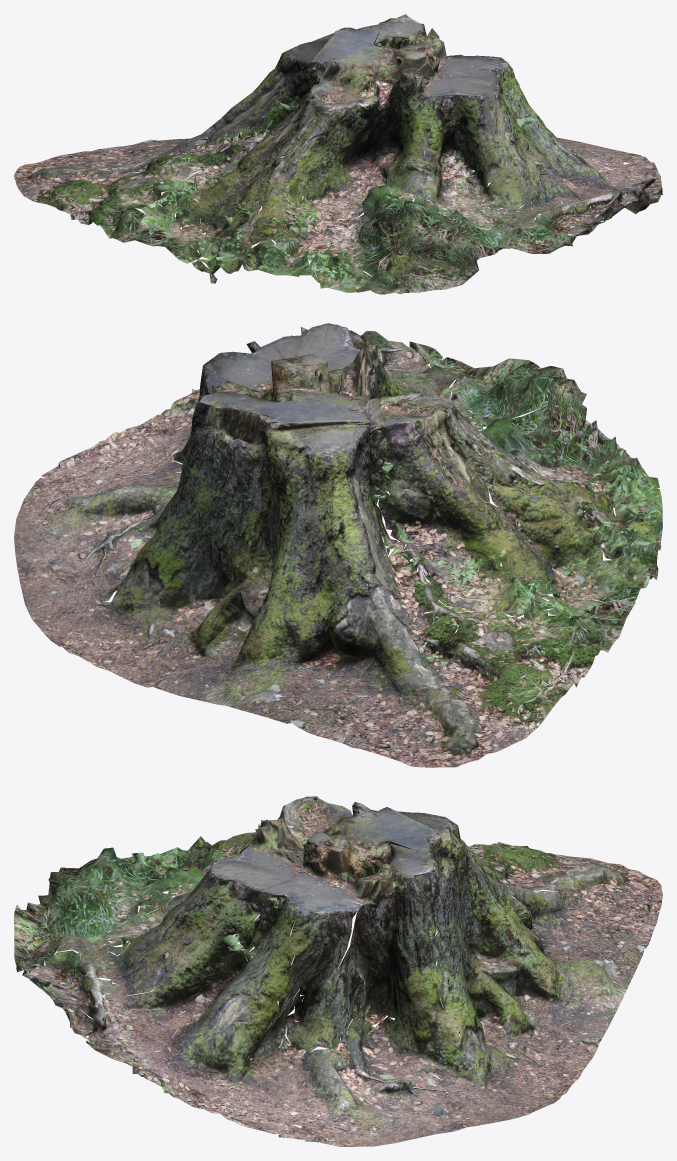
File: stump_boubin.glb
3 renders of one model, top to bottom at view 1: azimuth 30°, elevation 25°; view 2: azimuth 150°, elevation 25°; view 3: azimuth 270°, elevation 25°, orthographic. The views are drawn at different scales.
Parts seen in each view (by area): view 1: boubin_stump_boubin_stump_0; view 2: boubin_stump_boubin_stump_0; view 3: boubin_stump_boubin_stump_0.
Part boxes in pixels (x1,y1,x2,y2): boubin_stump_boubin_stump_0: (14, 14, 662, 294); boubin_stump_boubin_stump_0: (14, 323, 662, 767); boubin_stump_boubin_stump_0: (14, 796, 662, 1146).
Size of the model in its own units: 56.94 by 19.59 by 54.73.
1 material, 1 textured.
